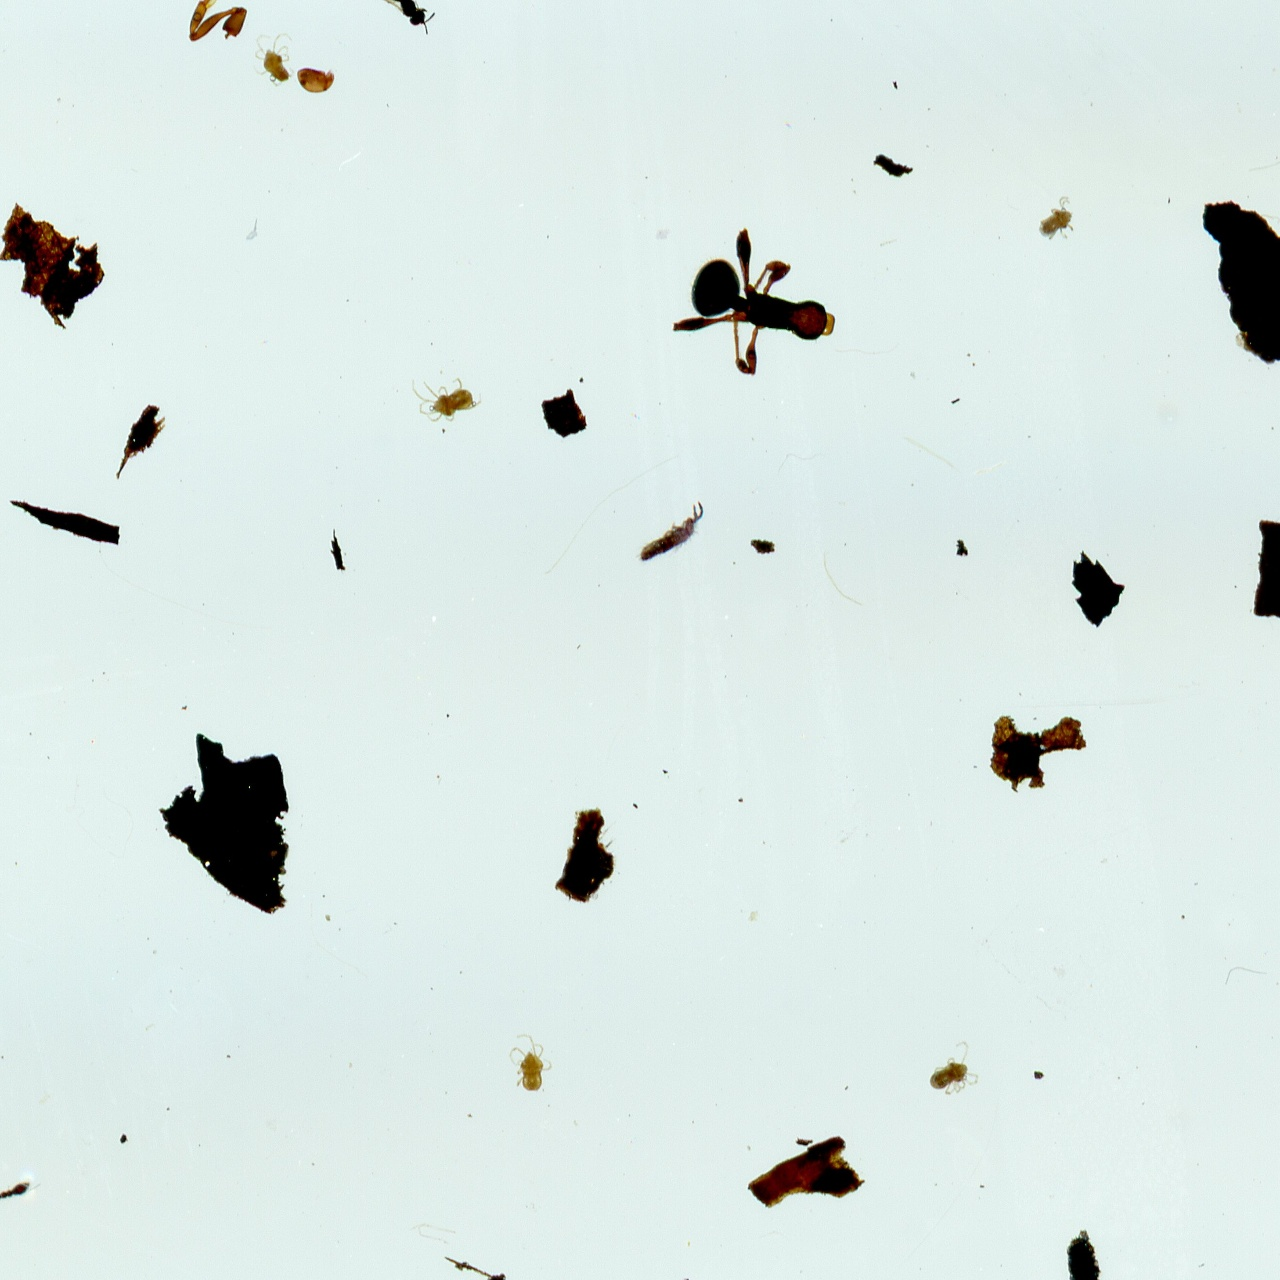arthropod: (666, 225, 838, 380), (628, 489, 722, 584), (409, 374, 484, 427), (928, 1039, 980, 1101), (506, 1032, 554, 1095), (363, 0, 436, 38), (251, 30, 298, 88), (1036, 193, 1077, 246), (293, 63, 339, 98)
